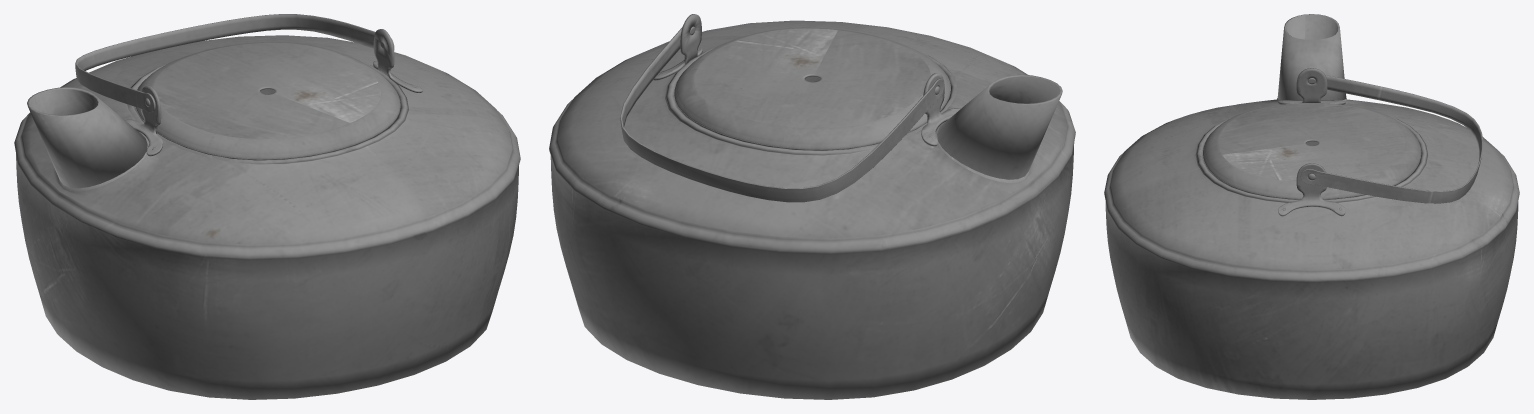
The model's file is kettle.glb.
3 renders of one model, left to right at view 1: azimuth 30°, elevation 25°; view 2: azimuth 150°, elevation 25°; view 3: azimuth 270°, elevation 25°, orthographic. The views are drawn at different scales.
Visible parts, largest first — view 1: Object_high.003; view 2: Object_high.003; view 3: Object_high.003.
Boxes of the visible parts, x1,y1,x2,y2 form: Object_high.003: (14, 14, 520, 399); Object_high.003: (549, 14, 1075, 399); Object_high.003: (1104, 14, 1519, 399).
Size of the model in its own units: 21.15 by 11.35 by 20.15.
Materials: 1 (1 with a texture image).
